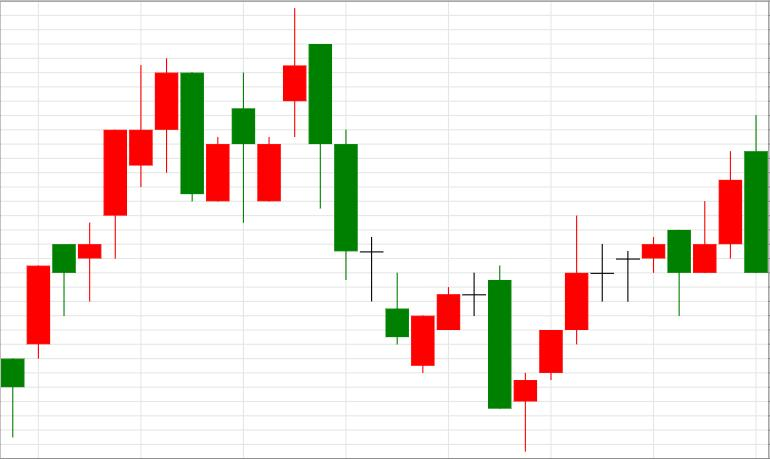bearish_engulfing_fall: (514, 115, 769, 451)
